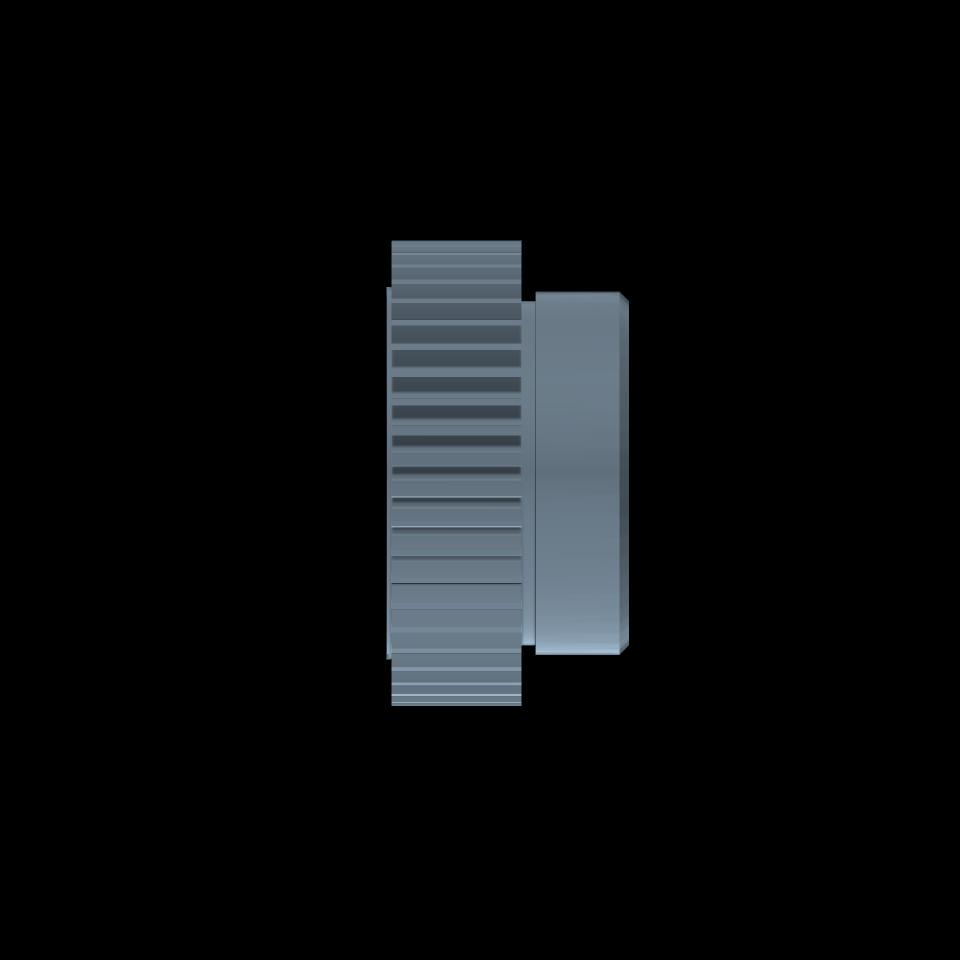Straight: (392, 241, 520, 705)
